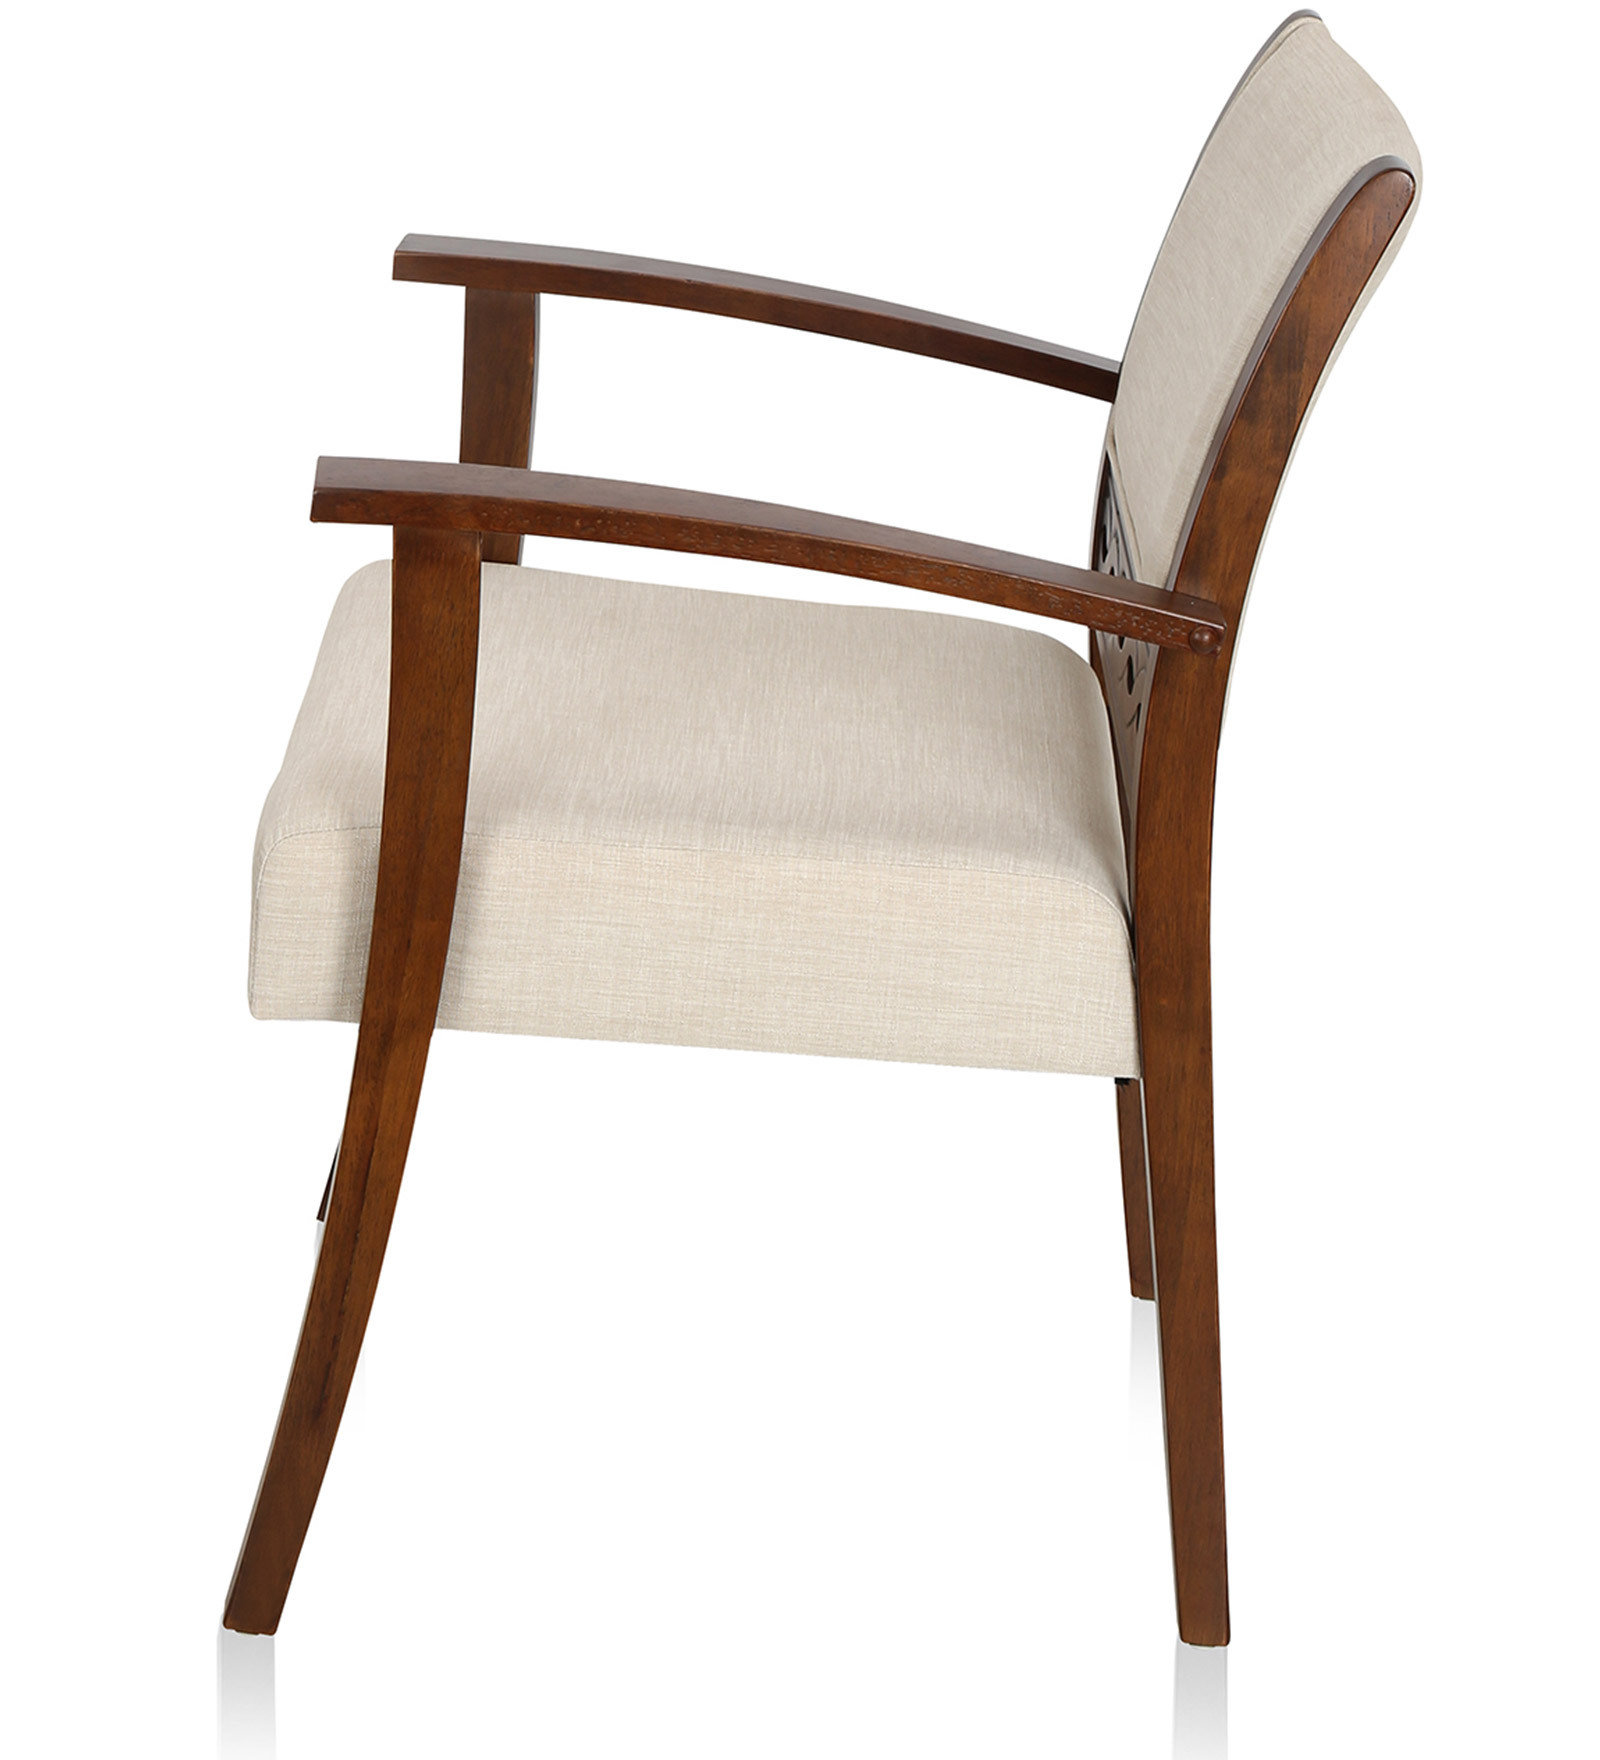Zinnia Arm Chair in Beige Colour by @ Home: (185, 28, 1385, 1666)
